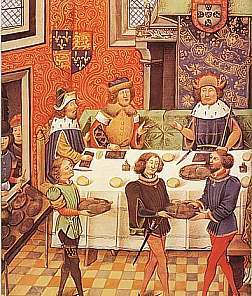diningtable: (46, 135, 247, 257)
person: (121, 147, 173, 293), (193, 145, 242, 294), (44, 156, 94, 294), (177, 72, 243, 148), (44, 83, 93, 174), (92, 75, 146, 150), (6, 112, 30, 185), (2, 118, 16, 193)
